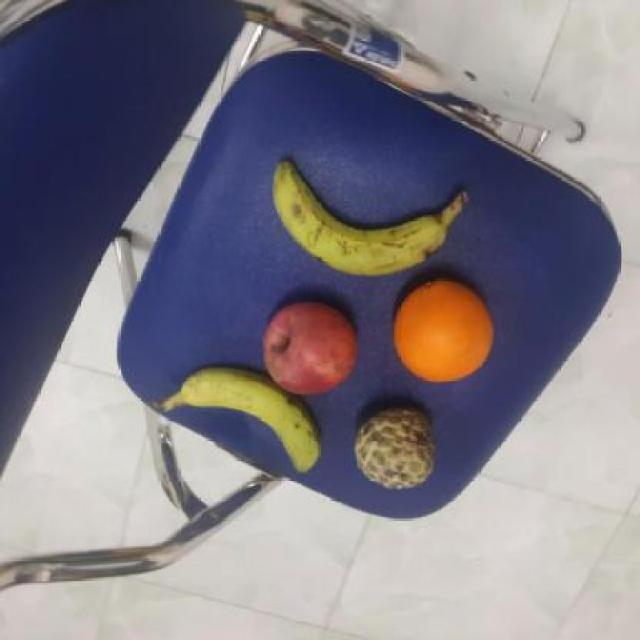apple: (255, 298, 360, 397)
banana: (269, 158, 449, 278), (177, 365, 329, 487)
oren: (389, 277, 500, 385)
sugar apple: (352, 406, 439, 496)
